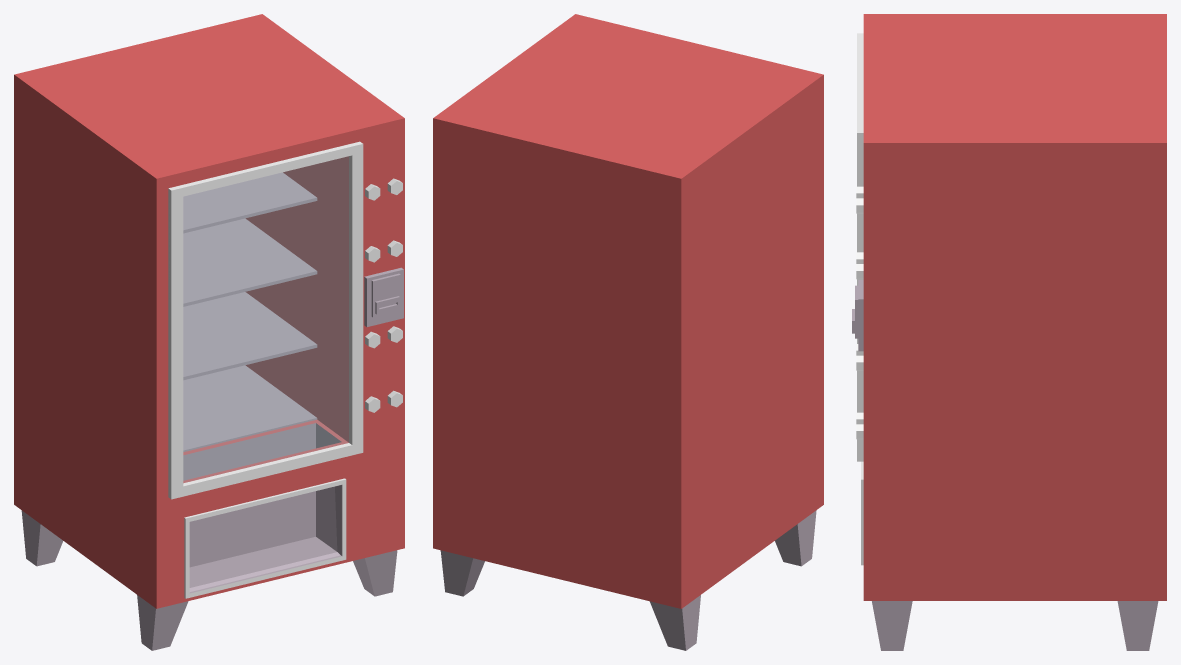
File: VendingMachine.glb
3 views of the same model, side by side, from view 1: azimuth 30°, elevation 25°; view 2: azimuth 150°, elevation 25°; view 3: azimuth 270°, elevation 25° (orthographic). The views are drawn at different scales.
Parts seen in each view (by area): view 1: Cube, Cube.008, Cube.005, Cube.001, Cube.002, Cube.003, Cube.004; view 2: Cube, Cube.002, Cube.001; view 3: Cube, Cube.002, Cube.001.
Boxes of the visible parts, left/top/right/bottom form: Cube: left=14, top=14, right=404, bottom=608; Cube.008: left=183, top=156, right=348, bottom=482; Cube.005: left=183, top=172, right=317, bottom=451; Cube.001: left=137, top=550, right=397, bottom=650; Cube.002: left=21, top=510, right=62, bottom=566; Cube.003: left=364, top=267, right=403, bottom=326; Cube.004: left=371, top=273, right=400, bottom=317; Cube: left=433, top=14, right=823, bottom=608; Cube.002: left=440, top=550, right=700, bottom=650; Cube.001: left=775, top=510, right=816, bottom=566; Cube: left=857, top=14, right=1166, bottom=600; Cube.002: left=1117, top=601, right=1158, bottom=650; Cube.001: left=872, top=601, right=912, bottom=650.
Bounding box in the file's own units: 1.05 × 1.94 × 1.09.
